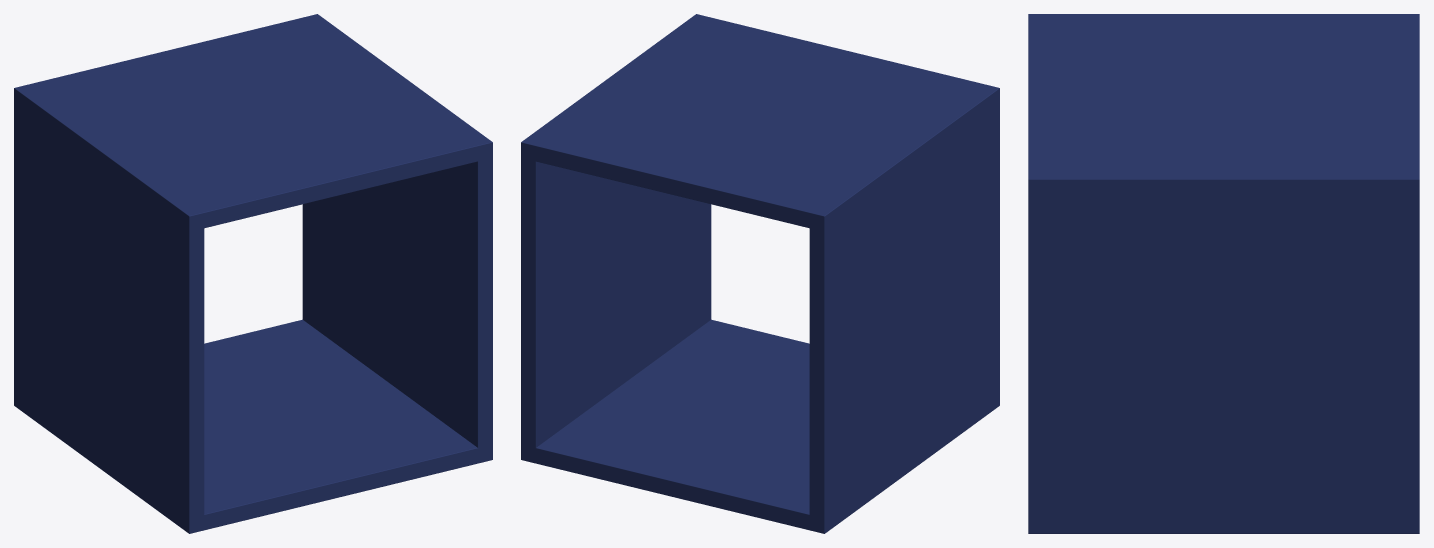
The model's file is MOD_1X1_A_O_AF.glb.
3 renders of one model, left to right at view 1: azimuth 30°, elevation 25°; view 2: azimuth 150°, elevation 25°; view 3: azimuth 270°, elevation 25°, orthographic. The views are drawn at different scales.
Bounding box in the file's own units: 360 × 360 × 360.
